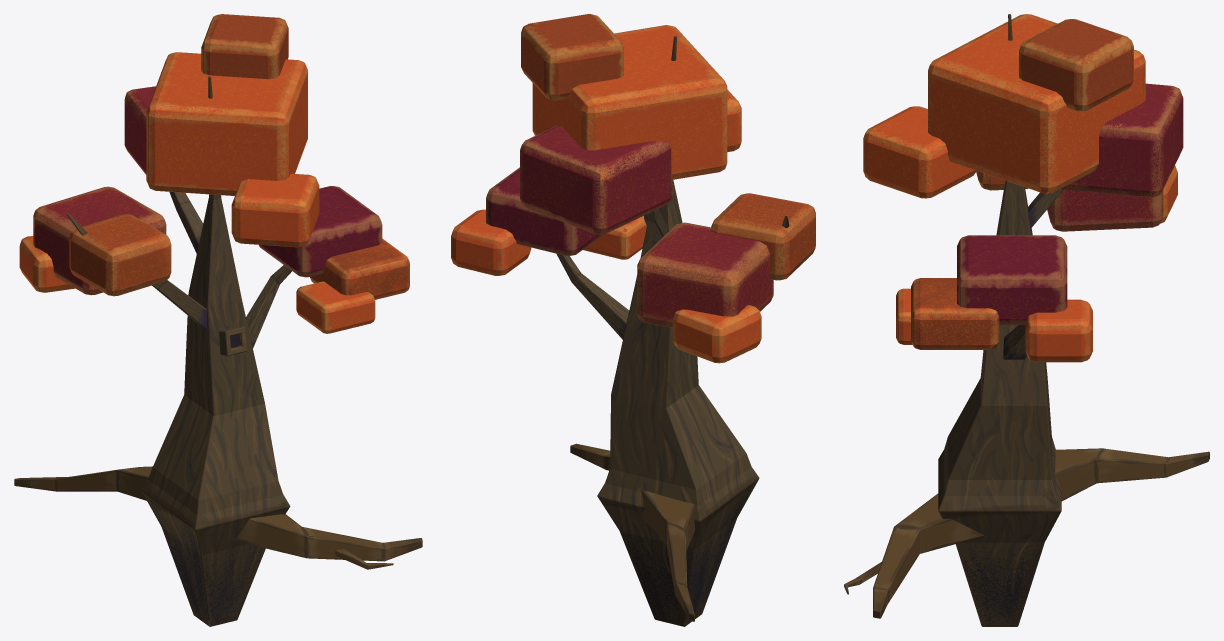
File: Grand_Arbre.fbx
The picture shows the model from 3 angles, left to right: view 1: azimuth 30°, elevation 25°; view 2: azimuth 150°, elevation 25°; view 3: azimuth 270°, elevation 25°; orthographic projection. The views are drawn at different scales.
Visible parts, largest first — view 1: Grand Arbre; view 2: Grand Arbre; view 3: Grand Arbre.
Part boxes in pixels (bbox=[...]): Grand Arbre: bbox=[14, 14, 422, 626]; Grand Arbre: bbox=[451, 14, 815, 626]; Grand Arbre: bbox=[844, 14, 1209, 626].
Size of the model in its own units: 1219 by 2264 by 1297.
